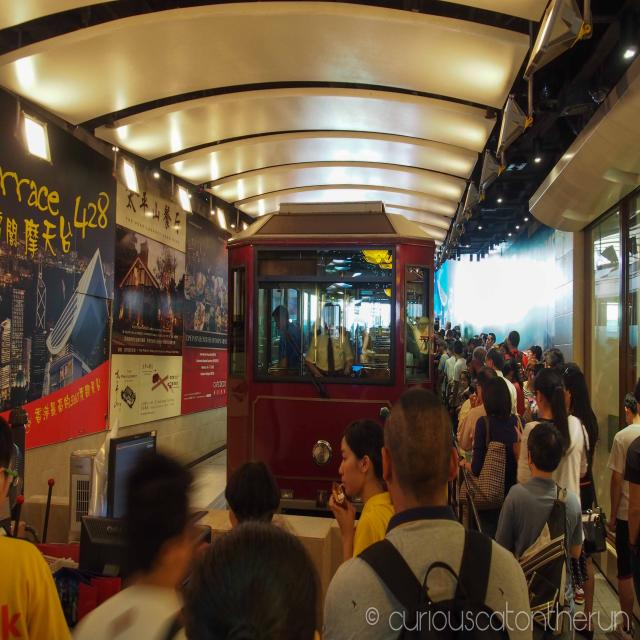body: (319, 382, 538, 640), (70, 445, 200, 640), (186, 457, 321, 640), (495, 422, 582, 640), (515, 366, 589, 589), (0, 413, 71, 639), (560, 366, 601, 640), (458, 375, 526, 539), (328, 418, 397, 560), (605, 387, 640, 640), (410, 313, 472, 399), (517, 344, 581, 422), (622, 391, 640, 640), (458, 365, 498, 464), (457, 370, 498, 465), (304, 301, 354, 378), (314, 313, 372, 374), (597, 332, 636, 422), (268, 304, 310, 370), (483, 347, 518, 417), (449, 339, 468, 435), (472, 331, 511, 377), (504, 330, 529, 381), (444, 341, 457, 393), (466, 354, 478, 384), (459, 369, 472, 392)
